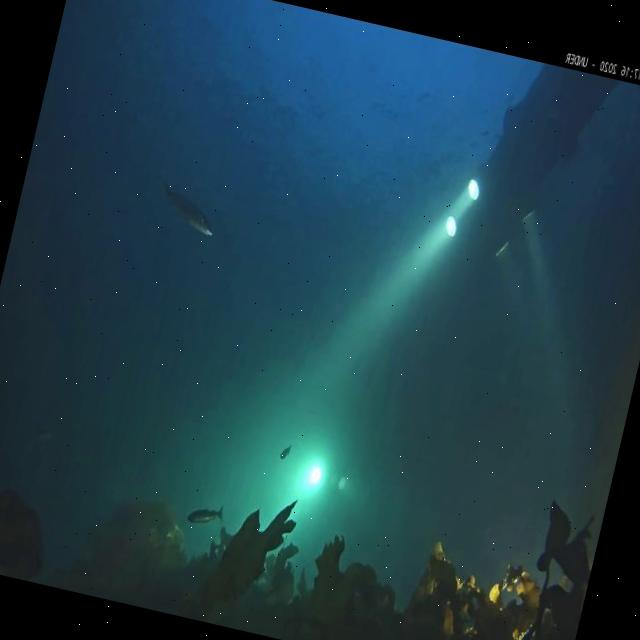fish: (154, 190, 219, 242), (185, 498, 228, 532), (277, 444, 293, 463)
